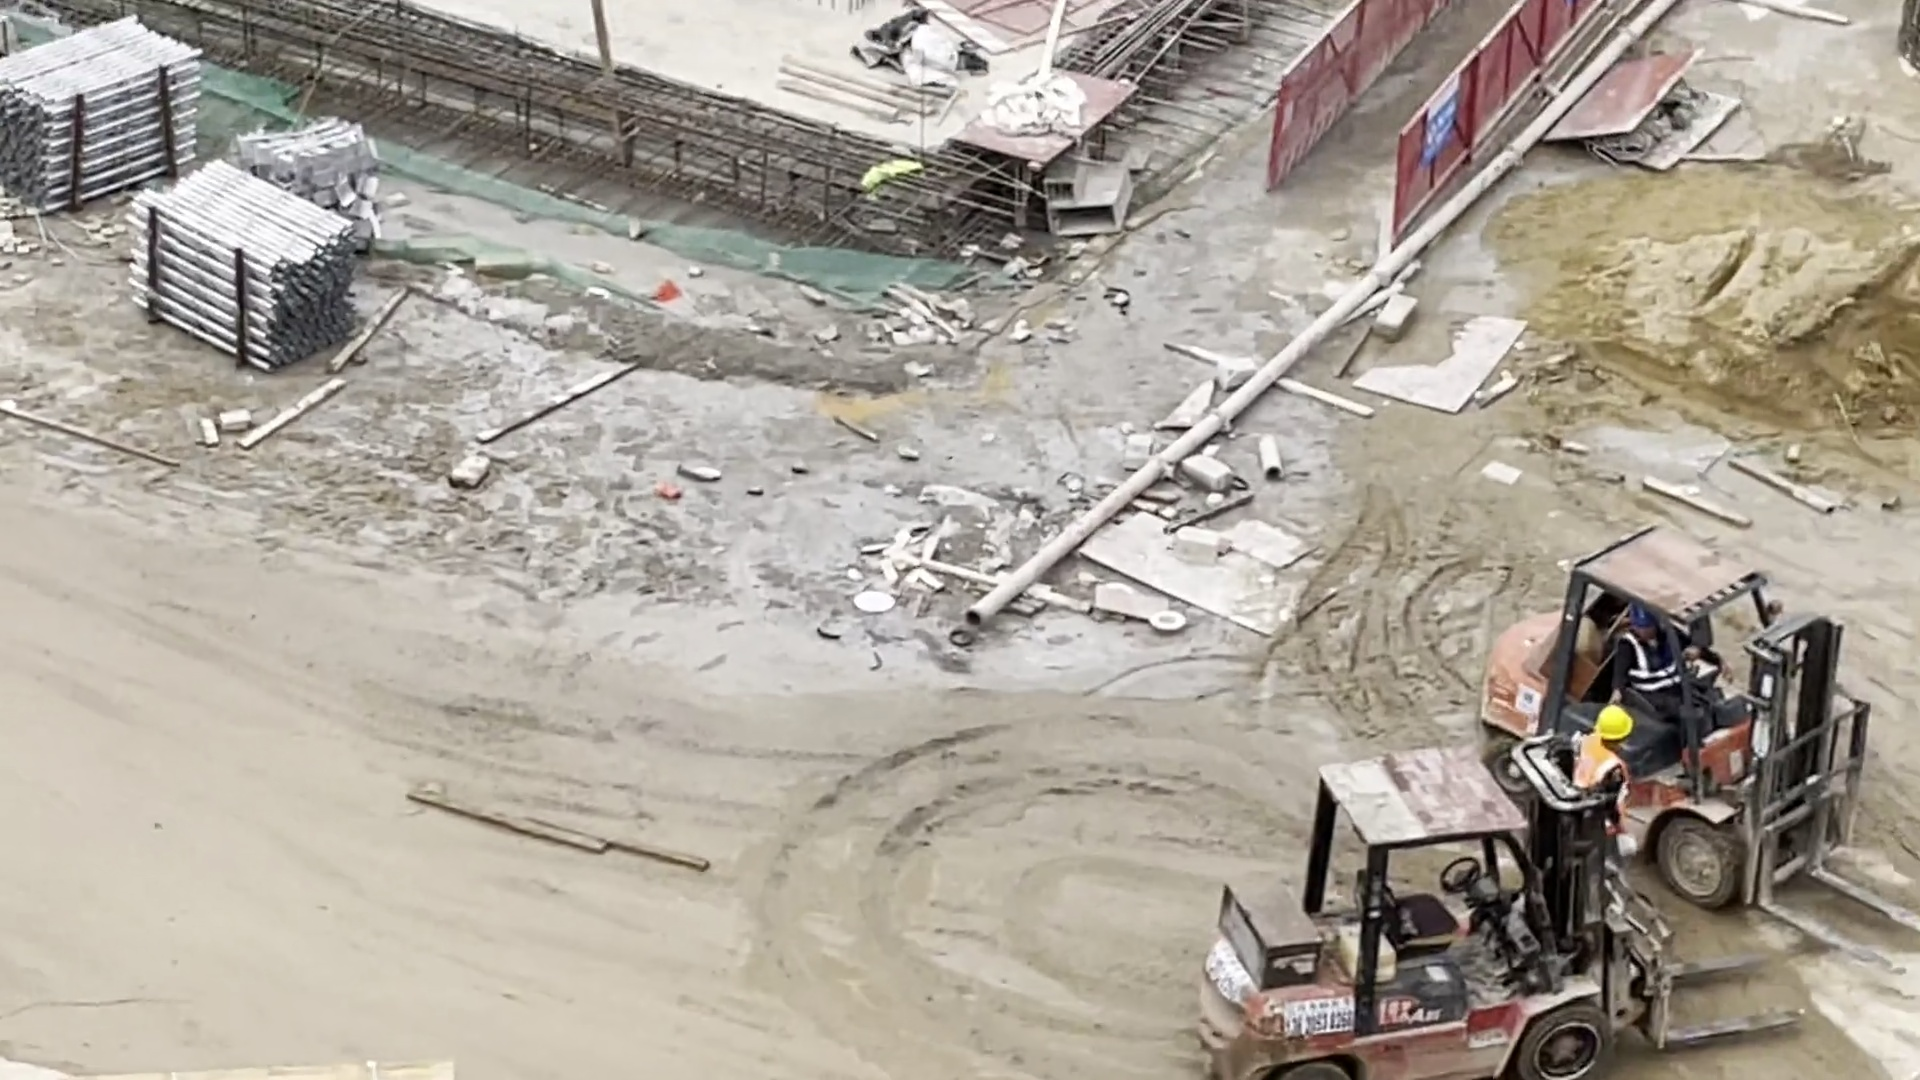fence: (1274, 2, 1594, 254)
helmet: (1594, 706, 1635, 737), (1628, 601, 1654, 627)
person: (1615, 595, 1743, 738), (1566, 704, 1630, 857)
scaffold: (3, 16, 365, 374)
slogan: (1425, 73, 1459, 162)
vest: (1578, 738, 1629, 835), (1629, 632, 1697, 689)
